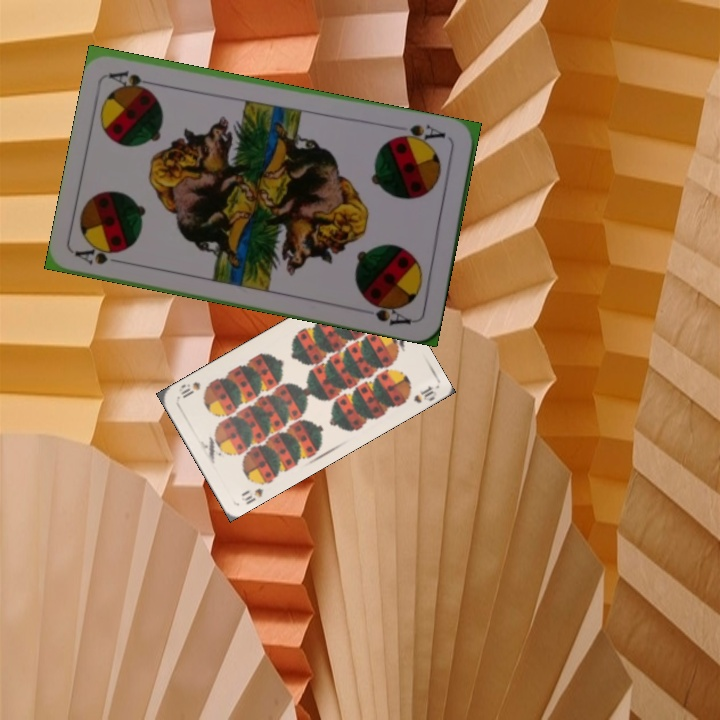S10: (237, 475, 271, 507)
SA: (391, 120, 448, 148), (72, 241, 131, 267)
